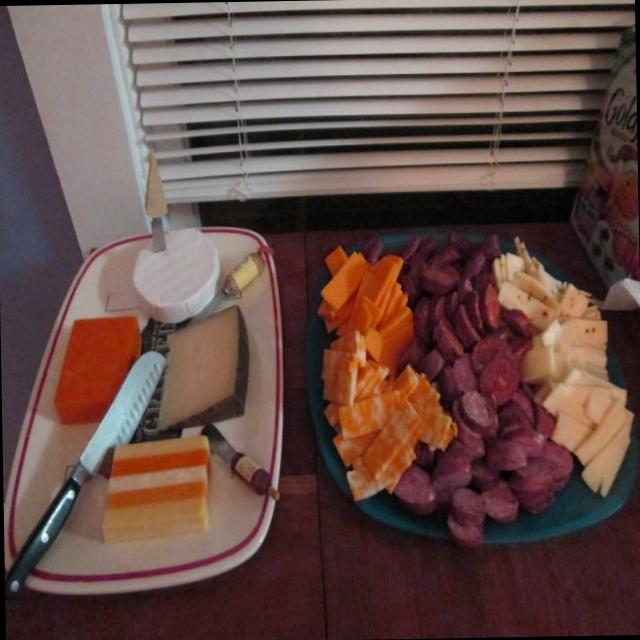Knife: (5, 351, 167, 599)
